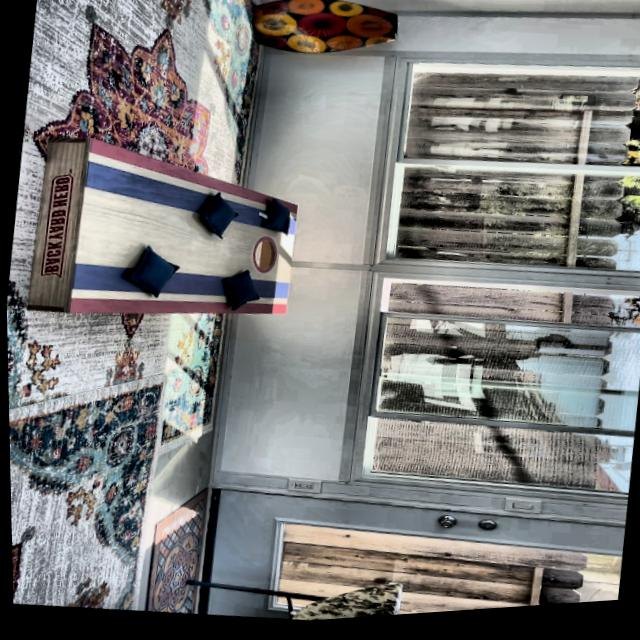blue-bean-bag: (121, 242, 182, 303), (196, 190, 242, 245), (218, 268, 264, 315), (262, 198, 292, 239)
board: (68, 166, 300, 331)
hole: (249, 237, 280, 277)
